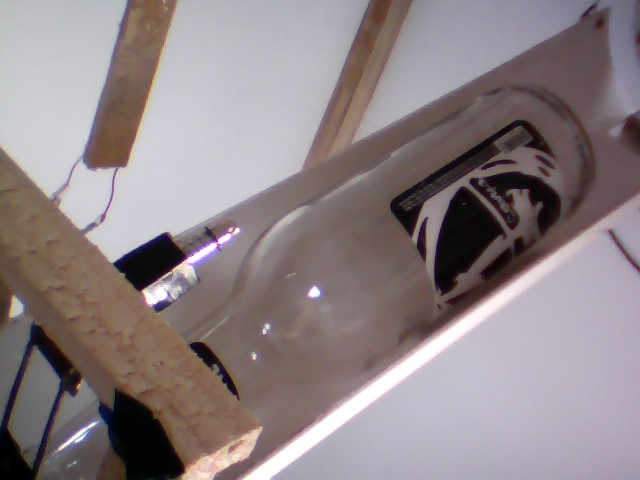vidrio: (179, 78, 597, 405)
